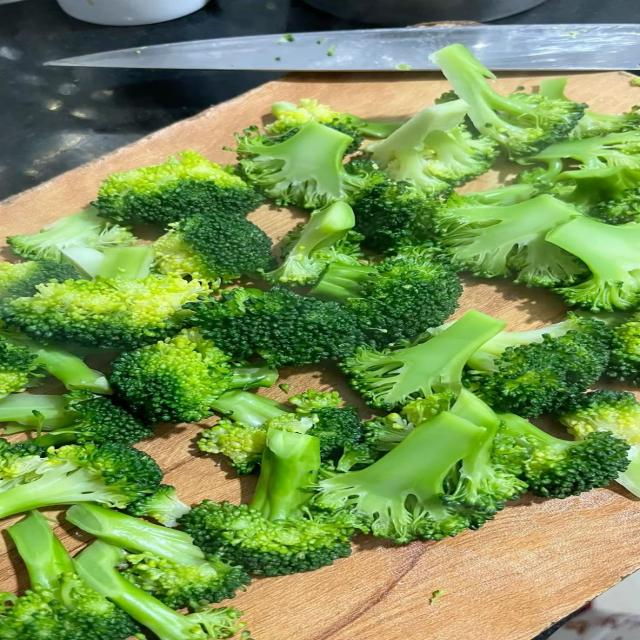broccoli: (180, 428, 357, 575), (317, 412, 493, 543), (367, 389, 528, 525), (67, 504, 249, 609), (0, 511, 139, 639), (430, 44, 586, 157), (74, 541, 244, 639), (341, 311, 505, 410), (110, 329, 277, 422), (2, 275, 208, 348), (312, 246, 461, 346), (465, 317, 612, 417), (187, 287, 365, 367), (434, 195, 587, 286), (198, 390, 362, 473), (234, 121, 380, 209), (0, 440, 162, 517), (367, 100, 498, 195), (94, 151, 260, 225), (443, 390, 528, 524), (499, 414, 629, 498), (0, 390, 153, 447), (547, 217, 639, 311), (467, 313, 611, 371), (154, 214, 273, 283), (265, 202, 360, 286), (350, 174, 448, 252), (0, 328, 111, 393), (7, 207, 135, 262), (527, 130, 639, 181), (364, 391, 456, 452), (265, 99, 403, 138), (553, 167, 639, 224), (559, 390, 639, 445), (197, 419, 266, 474), (0, 260, 79, 298), (213, 389, 290, 427), (0, 394, 71, 434), (127, 485, 190, 526), (0, 336, 38, 398), (607, 314, 639, 384), (447, 183, 536, 208), (568, 107, 639, 138), (93, 245, 155, 279), (323, 122, 363, 157), (616, 446, 639, 496)
